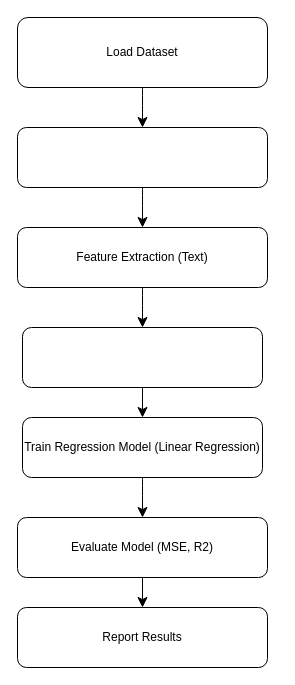
The diagram is 295 pixels wide and 685 high, and some of its shapes have lost their labels. Each missing label, with the centre of its shape:
"Explore & Clean Data" belongs at [142,157].
"Split Train/Test" belongs at [142,357].
